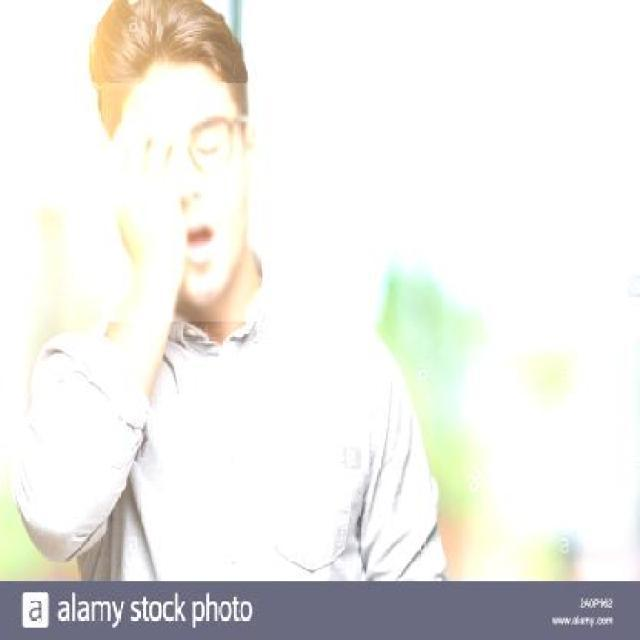sleepy: (131, 101, 253, 284)
